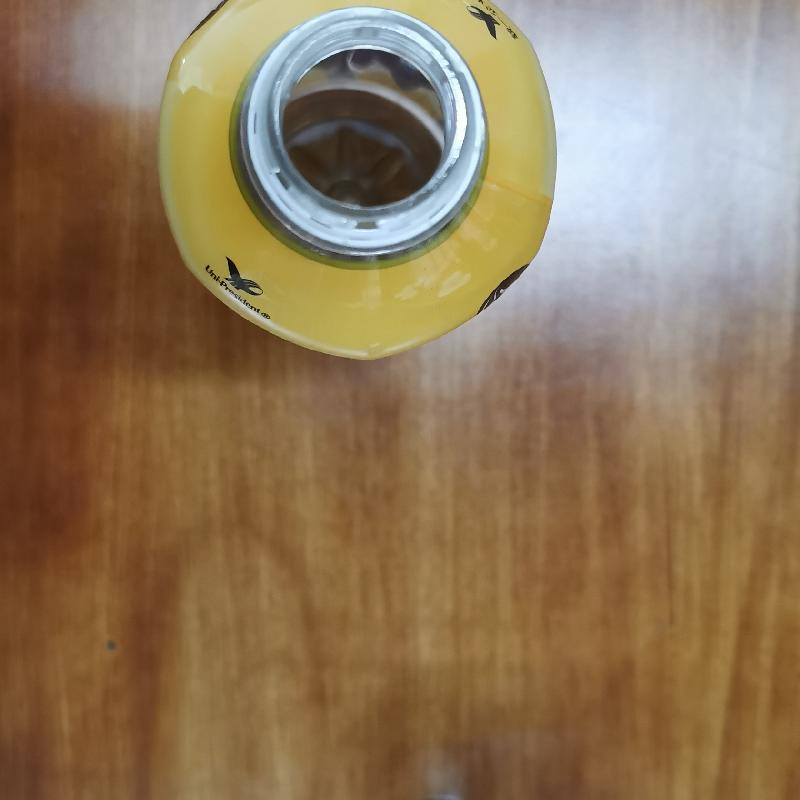bottles: (153, 2, 565, 371)
